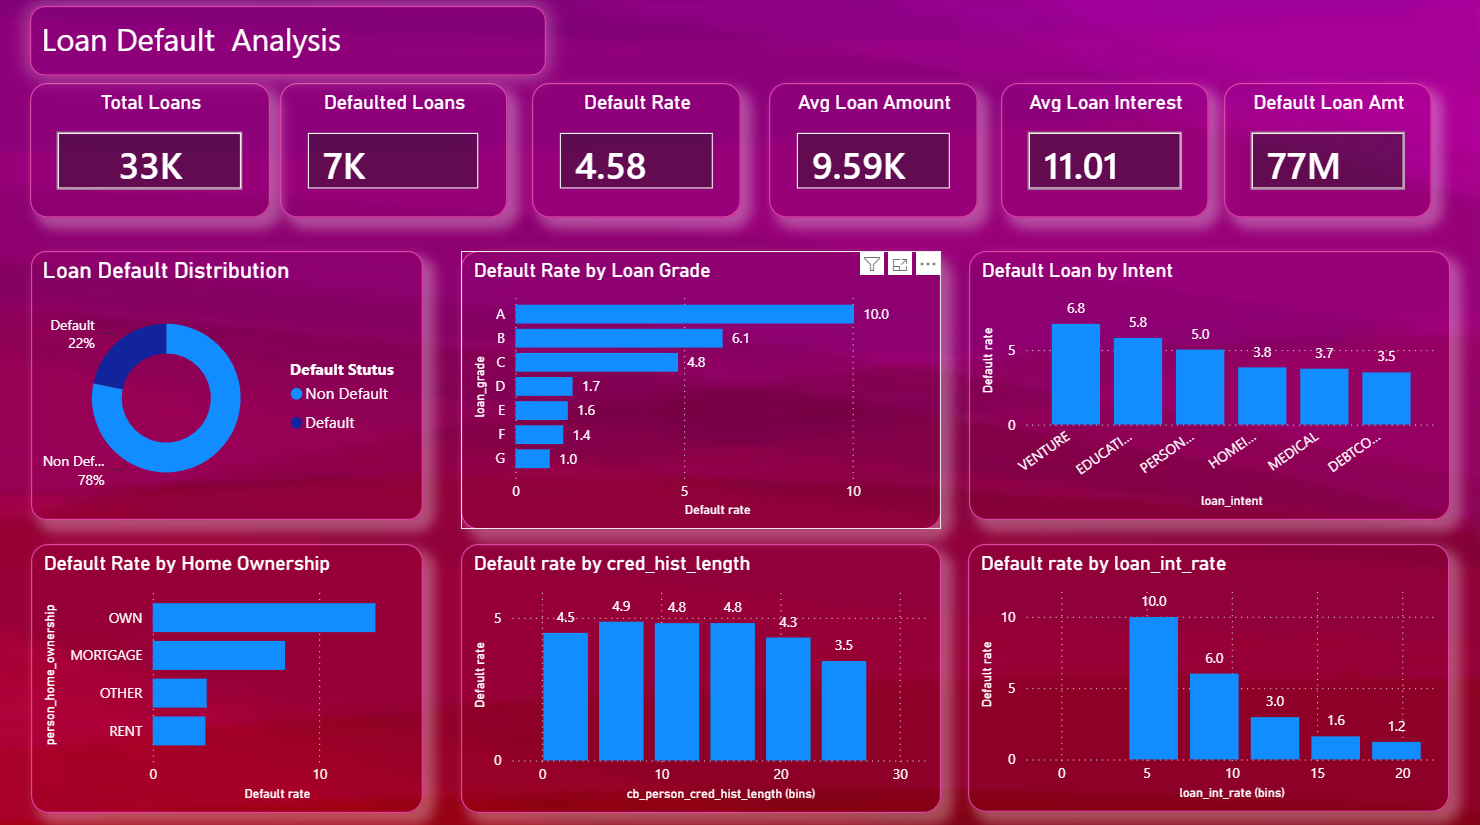

The page's visual inventory and layout, read from the dashboard file:
{"tool":"powerbi","page":{"name":"Page 1","canvas":[1280,720],"ordinal":0},"visuals":[{"type":"cardVisual","title":"Total Loans","fields":{"Data":["Loan_Default_Risk_Analysis_Cleaned.Total Loans"]},"box":[27.9,73.5,207,115.9],"z":0},{"type":"cardVisual","title":"Defaulted Loans ","fields":{"Data":["Loan_Default_Risk_Analysis_Cleaned.Defaulted Loans"]},"box":[243.2,73.5,195.6,115.9],"z":1000},{"type":"cardVisual","title":"Default Rate ","fields":{"Data":["Loan_Default_Risk_Analysis_Cleaned.Default rate"]},"box":[460.5,73.5,180,115.9],"z":2000},{"type":"cardVisual","title":"Avg Loan Amount","fields":{"Data":["Loan_Default_Risk_Analysis_Cleaned.Avg Loan Amount"]},"box":[665.4,73.5,180,115.9],"z":3000},{"type":"cardVisual","title":"Avg Loan Interest ","fields":{"Data":["Loan_Default_Risk_Analysis_Cleaned.Avg Loan Interest"]},"box":[865.1,73.5,179,115.9],"z":4000},{"type":"donutChart","title":"Loan Default Distribution","fields":{"Category":["Loan_Default_Risk_Analysis_Cleaned.Default"],"Y":["Loan_Default_Risk_Analysis_Cleaned.Total Loans"]},"box":[28.3,218.3,338.3,231.7],"z":5000},{"type":"clusteredBarChart","title":"Default Rate by Loan Grade","fields":{"Category":["Loan_Default_Risk_Analysis_Cleaned.loan_grade"],"Y":["Loan_Default_Risk_Analysis_Cleaned.Default rate"]},"box":[399.4,218.3,413.9,240.1],"z":6000},{"type":"columnChart","title":"Default Loan by Intent ","fields":{"Category":["Loan_Default_Risk_Analysis_Cleaned.loan_intent"],"Y":["Loan_Default_Risk_Analysis_Cleaned.Default rate"]},"box":[837.4,218.2,414.5,231.7],"z":7000},{"type":"clusteredBarChart","title":"Default Rate by Home Ownership","fields":{"Y":["Loan_Default_Risk_Analysis_Cleaned.Default rate"],"Category":["Loan_Default_Risk_Analysis_Cleaned.person_home_ownership"]},"box":[28.2,470.9,338.2,231.8],"z":8000},{"type":"textbox","box":[27.9,7.2,444.9,60],"z":11000},{"type":"cardVisual","title":"Default Loan Amt","fields":{"Data":["Loan_Default_Risk_Analysis_Cleaned.Default Loan Amount"]},"box":[1057.5,73.5,179,115.9],"z":14000},{"type":"clusteredColumnChart","title":"Default rate by cred_hist_length","fields":{"Category":["Loan_Default_Risk_Analysis_Cleaned.cb_person_cred_hist_length (bins)"],"Y":["Loan_Default_Risk_Analysis_Cleaned.Default rate"]},"box":[399.1,471.3,414,231.7],"z":14001},{"type":"lineStackedColumnComboChart","title":"Default rate by loan_int_rate","fields":{"Category":["Loan_Default_Risk_Analysis_Cleaned.loan_int_rate (bins)"],"Y":["Loan_Default_Risk_Analysis_Cleaned.Default rate"]},"box":[836.9,471.3,414.9,230.8],"z":14002}]}

Visuals, with their boxes in screenshot pixels (x1, y1, x2, y2), scaled from the page's 1280x720 canvas onto the 1480x825 screenshot:
"Total Loans" cardVisual: 32/84/272/217
"Defaulted Loans " cardVisual: 281/84/507/217
"Default Rate " cardVisual: 532/84/741/217
"Avg Loan Amount" cardVisual: 769/84/977/217
"Avg Loan Interest " cardVisual: 1000/84/1207/217
"Loan Default Distribution" donutChart: 33/250/424/516
"Default Rate by Loan Grade" clusteredBarChart: 462/250/940/525
"Default Loan by Intent " columnChart: 968/250/1448/516
"Default Rate by Home Ownership" clusteredBarChart: 33/540/424/805
textbox: 32/8/547/77
"Default Loan Amt" cardVisual: 1223/84/1430/217
"Default rate by cred_hist_length" clusteredColumnChart: 461/540/940/806
"Default rate by loan_int_rate" lineStackedColumnComboChart: 968/540/1447/804
